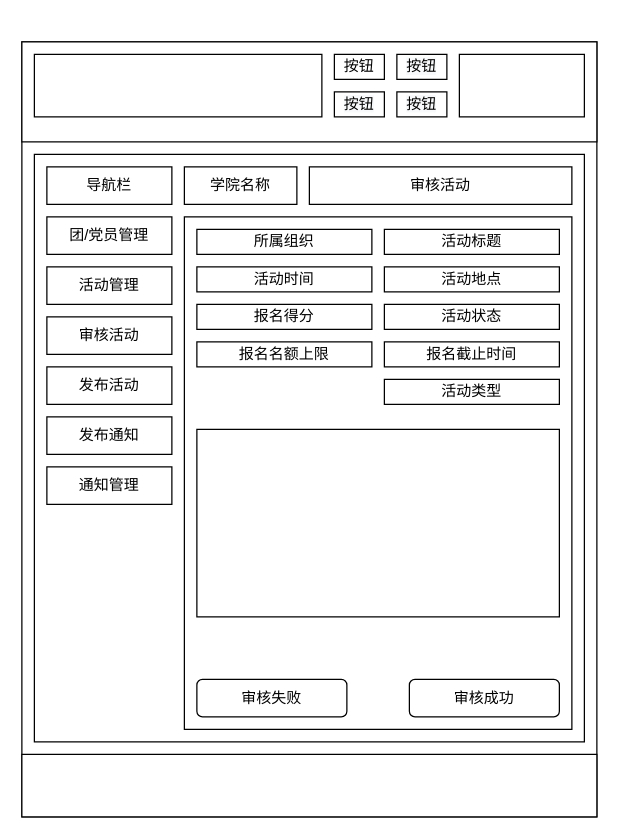
Image size: 619x839. Some labels were removed from this diagram. Each missing label, with the centre of its shape:
底部导航栏&联系发邮件: the point at 309,785
当前登录学生信息显示（跳转主页）: the point at 521,85
活动详细内容: the point at 377,522
网站标题（文字+图片）: the point at 177,85
